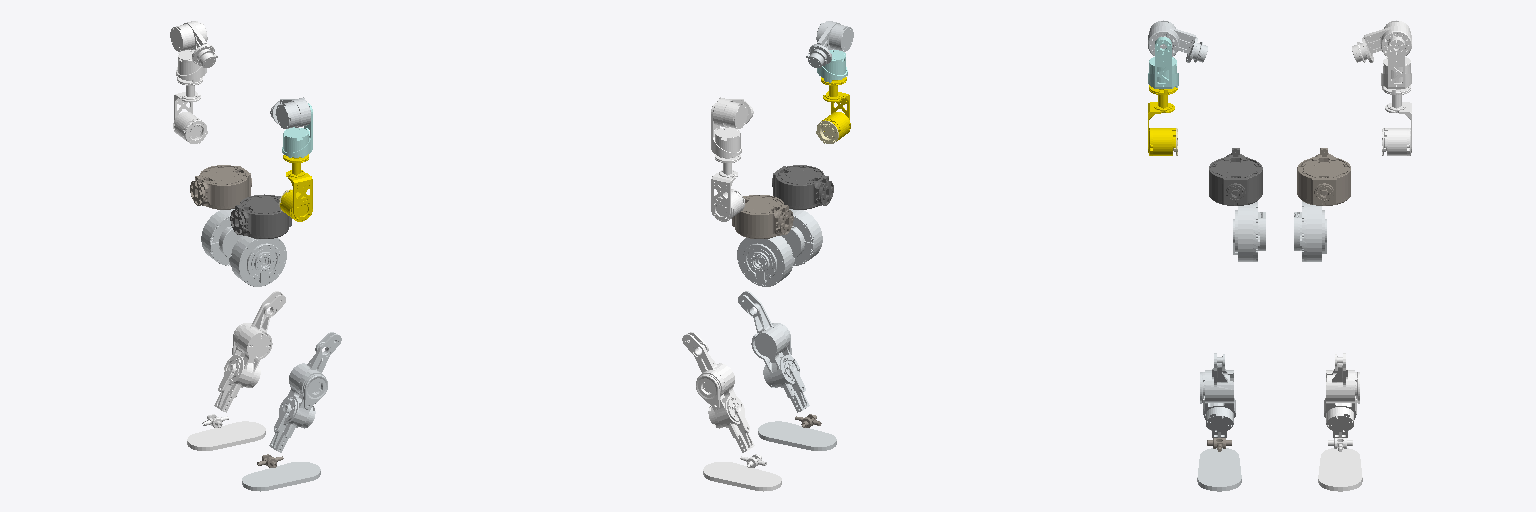
The robot description file, URDF, robot "Dora2":
<?xml version='1.0' encoding='utf-8'?>
<robot name="Dora2">
  <link name="base_link">
    <inertial>
      <origin xyz="-0.026899 -1.898E-06 0.035918" rpy="0 0 0" />
      <mass value="5.7651" />
      <inertia ixx="0.020053" ixy="-8.8171E-07" ixz="-3.1053E-05" iyy="0.014582" iyz="1.1072E-05" izz="0.013124" />
      </inertial>
    <visual>
      <origin xyz="0 0 0" rpy="0 0 0" />
      <geometry>
        <mesh filename="../meshes/base_link.STL" />
        </geometry>
      <material name="">
        <color rgba="0.89804 0.91765 0.92941 1" />
        </material>
      </visual>
    <collision>
      <origin xyz="0 0 0" rpy="0 0 0" />
      <geometry>
        <mesh filename="../meshes/base_link.STL" />
        </geometry>
      </collision>
    </link>
  <link name="l_arm_shoulder_pitch_Link">
    <inertial>
      <origin xyz="-0.0032277 -0.00090287 0.064029" rpy="0 0 0" />
      <mass value="0.47485" />
      <inertia ixx="0.00026491" ixy="-1.493E-06" ixz="-1.3787E-05" iyy="0.00023165" iyz="-4.313E-06" izz="0.00018067" />
      </inertial>
    <visual>
      <origin xyz="0 0 0" rpy="0 0 0" />
      <geometry>
        <mesh filename="../meshes/l_arm_shoulder_pitch_Link.STL" />
        </geometry>
      <material name="">
        <color rgba="1 1 1 1" />
        </material>
      </visual>
    <collision>
      <origin xyz="0 0 0" rpy="0 0 0" />
      <geometry>
        <mesh filename="../meshes/l_arm_shoulder_pitch_Link.STL" />
        </geometry>
      </collision>
    </link>
  <joint name="l_arm_shoulder_pitch_joint" type="fixed">
    <origin xyz="0 0.16535 0.20168" rpy="-1.2217 0 0" />
    <parent link="base_link" />
    <child link="l_arm_shoulder_pitch_Link" />
    <axis xyz="0 0 1" />
    <limit lower="-2" upper="2" effort="100" velocity="12" />
    </joint>
  <link name="l_arm_shoulder_roll_Link">
    <inertial>
      <origin xyz="0.00482434461878539 -0.000218754304780355 -0.066684892346818" rpy="0 0 0" />
      <mass value="0.369997353872883" />
      <inertia ixx="0.000197558683212289" ixy="-1.5602634042867E-06" ixz="-2.63403084055417E-05" iyy="0.00020014685176238" iyz="-3.03976144077389E-06" izz="0.000160207650697516" />
      </inertial>
    <visual>
      <origin xyz="0 0 0" rpy="0 0 0" />
      <geometry>
        <mesh filename="../meshes/l_arm_shoulder_roll_Link.STL" />
        </geometry>
      <material name="">
        <color rgba="1 1 1 1" />
        </material>
      </visual>
    <collision>
      <origin xyz="0 0 0" rpy="0 0 0" />
      <geometry>
        <mesh filename="../meshes/l_arm_shoulder_roll_Link.STL" />
        </geometry>
      </collision>
    </link>
  <joint name="l_arm_shoulder_roll_joint" type="fixed">
    <origin xyz="0 0 0.07625" rpy="1.2217 0 0" />
    <parent link="l_arm_shoulder_pitch_Link" />
    <child link="l_arm_shoulder_roll_Link" />
    <axis xyz="1 0 0" />
    <limit lower="0" upper="3" effort="100" velocity="12" />
    </joint>
  <link name="l_arm_shoulder_yaw_Link">
    <inertial>
      <origin xyz="-4.03282683863471E-05 0.00245809993860069 -0.0964013469128064" rpy="0 0 0" />
      <mass value="0.385684351005629" />
      <inertia ixx="0.000140770233725746" ixy="4.77061098456113E-08" ixz="-6.57625183657226E-07" iyy="0.000170456017896524" iyz="4.83143500058617E-06" izz="0.000126959258320037" />
      </inertial>
    <visual>
      <origin xyz="0 0 0" rpy="0 0 0" />
      <geometry>
        <mesh filename="../meshes/l_arm_shoulder_yaw_Link.STL" />
        </geometry>
      <material name="">
        <color rgba="1 1 1 1" />
        </material>
      </visual>
    <collision>
      <origin xyz="0 0 0" rpy="0 0 0" />
      <geometry>
        <mesh filename="../meshes/l_arm_shoulder_yaw_Link.STL" />
        </geometry>
      </collision>
    </link>
  <joint name="l_arm_shoulder_yaw_joint" type="fixed">
    <origin xyz="0 0 -0.108" rpy="0 0 0" />
    <parent link="l_arm_shoulder_roll_Link" />
    <child link="l_arm_shoulder_yaw_Link" />
    <axis xyz="0 0 1" />
    <limit lower="-2" upper="2" effort="100" velocity="12" />
    </joint>
  <link name="l_arm_elbow_Link">
    <inertial>
      <origin xyz="0.000783882641962441 -0.0071164610235743 -0.000187670615894142" rpy="0 0 0" />
      <mass value="0.0234686345431745" />
      <inertia ixx="4.69343397566853E-06" ixy="-1.99964708764804E-09" ixz="9.87920406079632E-08" iyy="9.07836938758881E-06" iyz="4.78743667979099E-10" izz="5.08242714541202E-06" />
      </inertial>
    <visual>
      <origin xyz="0 0 0" rpy="0 0 0" />
      <geometry>
        <mesh filename="../meshes/l_arm_elbow_Link.STL" />
        </geometry>
      <material name="">
        <color rgba="1 1 1 1" />
        </material>
      </visual>
    <collision>
      <origin xyz="0 0 0" rpy="0 0 0" />
      <geometry>
        <mesh filename="../meshes/l_arm_elbow_Link.STL" />
        </geometry>
      </collision>
    </link>
  <joint name="l_arm_elbow_joint" type="fixed">
    <origin xyz="0 -0.017 -0.11875" rpy="0 0 0" />
    <parent link="l_arm_shoulder_yaw_Link" />
    <child link="l_arm_elbow_Link" />
    <axis xyz="0 1 0" />
    <limit lower="-1.5" upper="1.5" effort="100" velocity="12" />
    </joint>
  <link name="r_arm_shoulder_pitch_Link">
    <inertial>
      <origin xyz="-0.00322766219363702 0.000902867126619522 0.0640292363653914" rpy="0 0 0" />
      <mass value="0.474849451126101" />
      <inertia ixx="0.000264909282657534" ixy="1.49302417243388E-06" ixz="-1.37867353578637E-05" iyy="0.000231649340648057" iyz="4.31300719077689E-06" izz="0.000180674893290091" />
      </inertial>
    <visual>
      <origin xyz="0 0 0" rpy="0 0 0" />
      <geometry>
        <mesh filename="../meshes/r_arm_shoulder_pitch_Link.STL" />
        </geometry>
      <material name="">
        <color rgba="0.898039215686275 0.917647058823529 0.929411764705882 1" />
        </material>
      </visual>
    <collision>
      <origin xyz="0 0 0" rpy="0 0 0" />
      <geometry>
        <mesh filename="../meshes/r_arm_shoulder_pitch_Link.STL" />
        </geometry>
      </collision>
    </link>
  <joint name="r_arm_shoulder_pitch_joint" type="fixed">
    <origin xyz="0 -0.16535 0.20168" rpy="1.2217 0 0" />
    <parent link="base_link" />
    <child link="r_arm_shoulder_pitch_Link" />
    <axis xyz="0 0 1" />
    <limit lower="-2" upper="2" effort="100" velocity="12" />
    </joint>
  <link name="r_arm_shoulder_roll_Link">
    <inertial>
      <origin xyz="0.00482435004857312 0.000218646457870841 -0.0666848884784403" rpy="0 0 0" />
      <mass value="0.369997409547943" />
      <inertia ixx="0.000197558689735899" ixy="1.55936436335277E-06" ixz="-2.63403151880769E-05" iyy="0.000200146864120328" iyz="3.03941874056831E-06" izz="0.000160207663265554" />
      </inertial>
    <visual>
      <origin xyz="0 0 0" rpy="0 0 0" />
      <geometry>
        <mesh filename="../meshes/r_arm_shoulder_roll_Link.STL" />
        </geometry>
      <material name="">
        <color rgba="0.780392156862745 0.972549019607843 0.956862745098039 1" />
        </material>
      </visual>
    <collision>
      <origin xyz="0 0 0" rpy="0 0 0" />
      <geometry>
        <mesh filename="../meshes/r_arm_shoulder_roll_Link.STL" />
        </geometry>
      </collision>
    </link>
  <joint name="r_arm_shoulder_roll_joint" type="fixed">
    <origin xyz="0 0 0.07625" rpy="-1.2217 0 0" />
    <parent link="r_arm_shoulder_pitch_Link" />
    <child link="r_arm_shoulder_roll_Link" />
    <axis xyz="1 0 0" />
    <limit lower="-3" upper="0" effort="100" velocity="12" />
    </joint>
  <link name="r_arm_shoulder_yaw_Link">
    <inertial>
      <origin xyz="-4.033E-05 -0.0024581 -0.096401" rpy="0 0 0" />
      <mass value="0.38568" />
      <inertia ixx="0.00014077" ixy="-4.771E-08" ixz="-6.5762E-07" iyy="0.00017046" iyz="-4.8314E-06" izz="0.00012696" />
      </inertial>
    <visual>
      <origin xyz="0 0 0" rpy="0 0 0" />
      <geometry>
        <mesh filename="../meshes/r_arm_shoulder_yaw_Link.STL" />
        </geometry>
      <material name="">
        <color rgba="1 0.90588 0 1" />
        </material>
      </visual>
    <collision>
      <origin xyz="0 0 0" rpy="0 0 0" />
      <geometry>
        <mesh filename="../meshes/r_arm_shoulder_yaw_Link.STL" />
        </geometry>
      </collision>
    </link>
  <joint name="r_arm_shoulder_yaw_joint" type="fixed">
    <origin xyz="0 0 -0.108" rpy="0 0 0" />
    <parent link="r_arm_shoulder_roll_Link" />
    <child link="r_arm_shoulder_yaw_Link" />
    <axis xyz="0 0 1" />
    <limit lower="-2" upper="2" effort="100" velocity="12" />
    </joint>
  <link name="r_arm_elbow_Link">
    <inertial>
      <origin xyz="0.000783882643357436 0.00711646102274963 -0.000187670617232349" rpy="0 0 0" />
      <mass value="0.0234686345431746" />
      <inertia ixx="4.69343397566855E-06" ixy="1.99964708702846E-09" ixz="9.87920406079816E-08" iyy="9.07836938758883E-06" iyz="-4.78743642735379E-10" izz="5.08242714541201E-06" />
      </inertial>
    <visual>
      <origin xyz="0 0 0" rpy="0 0 0" />
      <geometry>
        <mesh filename="../meshes/r_arm_elbow_Link.STL" />
        </geometry>
      <material name="">
        <color rgba="0.972549019607843 0.945098039215686 0.780392156862745 1" />
        </material>
      </visual>
    <collision>
      <origin xyz="0 0 0" rpy="0 0 0" />
      <geometry>
        <mesh filename="../meshes/r_arm_elbow_Link.STL" />
        </geometry>
      </collision>
    </link>
  <joint name="r_arm_elbow_joint" type="fixed">
    <origin xyz="0 0.017 -0.11875" rpy="0 0 0" />
    <parent link="r_arm_shoulder_yaw_Link" />
    <child link="r_arm_elbow_Link" />
    <axis xyz="0 1 0" />
    <limit lower="-1.5" upper="1.5" effort="100" velocity="12" />
    </joint>
  <link name="l_leg_hip_roll_Link">
    <inertial>
      <origin xyz="0.073997 -2.6118E-05 -0.0038831" rpy="0 0 0" />
      <mass value="1.2237" />
      <inertia ixx="0.0010875" ixy="2.5346E-06" ixz="4.9227E-06" iyy="0.0012014" iyz="-2.996E-07" izz="0.0021103" />
      </inertial>
    <visual>
      <origin xyz="0 0 0" rpy="0 0 0" />
      <geometry>
        <mesh filename="../meshes/l_leg_hip_roll_Link.STL" />
        </geometry>
      <material name="">
        <color rgba="0.64706 0.61961 0.58824 1" />
        </material>
      </visual>
    <collision>
      <origin xyz="0 0 0" rpy="0 0 0" />
      <geometry>
        <mesh filename="../meshes/l_leg_hip_roll_Link.STL" />
        </geometry>
      </collision>
    </link>
  <joint name="l_leg_hip_roll_joint" type="revolute">
    <origin xyz="-0.0792 0.09002 -0.085" rpy="0 0 0" />
    <parent link="base_link" />
    <child link="l_leg_hip_roll_Link" />
    <axis xyz="1 0 0" />
    <limit lower="-0.3" upper="1" effort="40" velocity="12" />
    </joint>
  <link name="l_leg_hip_yaw_Link">
    <inertial>
      <origin xyz="0.00018298 -0.018275 -0.069994" rpy="0 0 0" />
      <mass value="1.5439" />
      <inertia ixx="0.0016181" ixy="1.229E-06" ixz="-2.3738E-06" iyy="0.0028764" iyz="2.6967E-06" izz="0.0014519" />
      </inertial>
    <visual>
      <origin xyz="0 0 0" rpy="0 0 0" />
      <geometry>
        <mesh filename="../meshes/l_leg_hip_yaw_Link.STL" />
        </geometry>
      <material name="">
        <color rgba="0.89804 0.91765 0.92941 1" />
        </material>
      </visual>
    <collision>
      <origin xyz="0 0 0" rpy="0 0 0" />
      <geometry>
        <mesh filename="../meshes/l_leg_hip_yaw_Link.STL" />
        </geometry>
      </collision>
    </link>
  <joint name="l_leg_hip_yaw_joint" type="revolute">
    <origin xyz="0.0815 0 -0.0375" rpy="0 0 0" />
    <parent link="l_leg_hip_roll_Link" />
    <child link="l_leg_hip_yaw_Link" />
    <axis xyz="0 0 1" />
    <limit lower="-0.75" upper="1.5" effort="40" velocity="12" />
    </joint>
  <link name="l_leg_hip_pitch_Link">
    <inertial>
      <origin xyz="0.00263050346808996 0.0505924691116392 -0.0509281264870309" rpy="0 0 0" />
      <mass value="2.63780166885626" />
      <inertia ixx="0.0128050639410327" ixy="-7.30670824907572E-06" ixz="0.00012322434413997" iyy="0.0146659167630542" iyz="0.000182392843008207" izz="0.00218142025359868" />
      </inertial>
    <visual>
      <origin xyz="0 0 0" rpy="0 0 0" />
      <geometry>
        <mesh filename="../meshes/l_leg_hip_pitch_Link.STL" />
        </geometry>
      <material name="">
        <color rgba="1 1 1 1" />
        </material>
      </visual>
    <collision>
      <origin xyz="0 0 0" rpy="0 0 0" />
      <geometry>
        <mesh filename="../meshes/l_leg_hip_pitch_Link.STL" />
        </geometry>
      </collision>
    </link>
  <joint name="l_leg_hip_pitch_joint" type="revolute">
    <origin xyz="0 0 -0.076" rpy="0 -0.52 0" />
    <parent link="l_leg_hip_yaw_Link" />
    <child link="l_leg_hip_pitch_Link" />
    <axis xyz="0 1 0" />
    <limit lower="-0.98" upper="2.02" effort="120" velocity="12" />
    </joint>
  <link name="l_leg_knee_Link">
    <inertial>
      <origin xyz="0.00266770031269203 0.00221957096227114 -0.128036168256414" rpy="0 0 0" />
      <mass value="1.34567623230749" />
      <inertia ixx="0.00225057945909996" ixy="-2.36738551821806E-06" ixz="-2.21475954062562E-05" iyy="0.0022436430421998" iyz="-4.54794163165065E-05" izz="0.000463767068680579" />
      </inertial>
    <visual>
      <origin xyz="0 0 0" rpy="0 0 0" />
      <geometry>
        <mesh filename="../meshes/l_leg_knee_Link.STL" />
        </geometry>
      <material name="">
        <color rgba="1 1 1 1" />
        </material>
      </visual>
    <collision>
      <origin xyz="0 0 0" rpy="0 0 0" />
      <geometry>
        <mesh filename="../meshes/l_leg_knee_Link.STL" />
        </geometry>
      </collision>
    </link>
  <joint name="l_leg_knee_joint" type="revolute">
    <origin xyz="0 0.032659 -0.27" rpy="0 1.04 0" />
    <parent link="l_leg_hip_pitch_Link" />
    <child link="l_leg_knee_Link" />
    <axis xyz="0 1 0" />
    <limit lower="-0.96" upper="0.96" effort="120" velocity="12" />
    </joint>
  <link name="l_leg_ankle_pitch_Link">
    <inertial>
      <origin xyz="0.0010416057050221 3.86596726853483E-09 -9.72771641016834E-10" rpy="0 0 0" />
      <mass value="0.0899541151447192" />
      <inertia ixx="1.16237302815817E-05" ixy="6.8818627585469E-12" ixz="-6.20500503887009E-13" iyy="1.42974136786799E-05" iyz="7.1490905437311E-13" izz="2.19294687658168E-05" />
      </inertial>
    <visual>
      <origin xyz="0 0 0" rpy="0 0 0" />
      <geometry>
        <mesh filename="../meshes/l_leg_ankle_pitch_Link.STL" />
        </geometry>
      <material name="">
        <color rgba="1 1 1 1" />
        </material>
      </visual>
    </link>
  <joint name="l_leg_ankle_pitch_joint" type="revolute">
    <origin xyz="0 0 -0.28" rpy="0 -0.52 0" />
    <parent link="l_leg_knee_Link" />
    <child link="l_leg_ankle_pitch_Link" />
    <axis xyz="0 1 0" />
    <limit lower="-0.28" upper="1.08" effort="27" velocity="12" />
    </joint>
  <link name="l_leg_ankle_roll_Link">
    <inertial>
      <origin xyz="0.00956351706341918 2.52051269337139E-05 -0.0277821418441356" rpy="0 0 0" />
      <mass value="0.442108383473458" />
      <inertia ixx="0.000179440452962887" ixy="-9.81668136691162E-08" ixz="2.01427592817129E-05" iyy="0.000724129860482909" iyz="4.76805498508633E-08" izz="0.000870339094674059" />
      </inertial>
    <visual>
      <origin xyz="0 0 0" rpy="0 0 0" />
      <geometry>
        <mesh filename="../meshes/l_leg_ankle_roll_Link.STL" />
        </geometry>
      <material name="">
        <color rgba="1 1 1 1" />
        </material>
      </visual>
    <collision>
      <origin xyz="0 0 0" rpy="0 0 0" />
      <geometry>
        <mesh filename="../meshes/l_leg_ankle_roll_Link.STL" />
        </geometry>
      </collision>
    </link>
  <joint name="l_leg_ankle_roll_joint" type="revolute">
    <origin xyz="0 0 0" rpy="0 0 0" />
    <parent link="l_leg_ankle_pitch_Link" />
    <child link="l_leg_ankle_roll_Link" />
    <axis xyz="1 0 0" />
    <limit lower="-0.5" upper="0.5" effort="27" velocity="12" />
    </joint>
  <link name="r_leg_hip_roll_Link">
    <inertial>
      <origin xyz="0.073997 -2.6118E-05 -0.00038831" rpy="0 0 0" />
      <mass value="1.2237" />
      <inertia ixx="0.0010875" ixy="2.5346E-06" ixz="4.9227E-06" iyy="0.0012014" iyz="-2.996E-07" izz="0.0021103" />
      </inertial>
    <visual>
      <origin xyz="0 0 0" rpy="0 0 0" />
      <geometry>
        <mesh filename="../meshes/r_leg_hip_roll_Link.STL" />
        </geometry>
      <material name="">
        <color rgba="0.49804 0.49804 0.49804 1" />
        </material>
      </visual>
    <collision>
      <origin xyz="0 0 0" rpy="0 0 0" />
      <geometry>
        <mesh filename="../meshes/r_leg_hip_roll_Link.STL" />
        </geometry>
      </collision>
    </link>
  <joint name="r_leg_hip_roll_joint" type="revolute">
    <origin xyz="-0.0792 -0.08998 -0.085" rpy="0 0 0" />
    <parent link="base_link" />
    <child link="r_leg_hip_roll_Link" />
    <axis xyz="1 0 0" />
    <limit lower="-1" upper="0.3" effort="40" velocity="12" />
    </joint>
  <link name="r_leg_hip_yaw_Link">
    <inertial>
      <origin xyz="0.00023924 0.018241 -0.069997" rpy="0 0 0" />
      <mass value="1.5439" />
      <inertia ixx="0.0016183" ixy="1.3779E-08" ixz="-4.3002E-07" iyy="0.0028766" iyz="-2.7088E-06" izz="0.0014515" />
      </inertial>
    <visual>
      <origin xyz="0 0 0" rpy="0 0 0" />
      <geometry>
        <mesh filename="../meshes/r_leg_hip_yaw_Link.STL" />
        </geometry>
      <material name="">
        <color rgba="0.89804 0.91765 0.92941 1" />
        </material>
      </visual>
    <collision>
      <origin xyz="0 0 0" rpy="0 0 0" />
      <geometry>
        <mesh filename="../meshes/r_leg_hip_yaw_Link.STL" />
        </geometry>
      </collision>
    </link>
  <joint name="r_leg_hip_yaw_joint" type="revolute">
    <origin xyz="0.0815 0 -0.0375" rpy="0 0 0" />
    <parent link="r_leg_hip_roll_Link" />
    <child link="r_leg_hip_yaw_Link" />
    <axis xyz="0 0 1" />
    <limit lower="0" upper="0" effort="40" velocity="12" />
    </joint>
  <link name="r_leg_hip_pitch_Link">
    <inertial>
      <origin xyz="0.00263050346808996 -0.0505924691116392 -0.0509281264870309" rpy="0 0 0" />
      <mass value="2.63780166885626" />
      <inertia ixx="0.0128050639410327" ixy="-7.30670824907572E-06" ixz="0.00012322434413997" iyy="0.0146659167630542" iyz="0.000182392843008207" izz="0.00218142025359868" />
      </inertial>
    <visual>
      <origin xyz="0 0 0" rpy="0 0 0" />
      <geometry>
        <mesh filename="../meshes/r_leg_hip_pitch_Link.STL" />
        </geometry>
      <material name="">
        <color rgba="0.89804 0.91765 0.92941 1" />
        </material>
      </visual>
    <collision>
      <origin xyz="0 0 0" rpy="0 0 0" />
      <geometry>
        <mesh filename="../meshes/r_leg_hip_pitch_Link.STL" />
        </geometry>
      </collision>
    </link>
  <joint name="r_leg_hip_pitch_joint" type="revolute">
    <origin xyz="0 0 -0.076" rpy="0 -0.52 0" />
    <parent link="r_leg_hip_yaw_Link" />
    <child link="r_leg_hip_pitch_Link" />
    <axis xyz="0 1 0" />
    <limit lower="-0.98" upper="2.02" effort="120" velocity="12" />
    </joint>
  <link name="r_leg_knee_Link">
    <inertial>
      <origin xyz="0.0026677 -0.0022197 -0.12804" rpy="0 0 0" />
      <mass value="1.3457" />
      <inertia ixx="0.0022506" ixy="2.3667E-06" ixz="-2.2148E-05" iyy="0.0022436" iyz="4.5481E-05" izz="0.00046377" />
      </inertial>
    <visual>
      <origin xyz="0 0 0" rpy="0 0 0" />
      <geometry>
        <mesh filename="../meshes/r_leg_knee_Link.STL" />
        </geometry>
      <material name="">
        <color rgba="0.89804 0.91765 0.92941 1" />
        </material>
      </visual>
    <collision>
      <origin xyz="0 0 0" rpy="0 0 0" />
      <geometry>
        <mesh filename="../meshes/r_leg_knee_Link.STL" />
        </geometry>
      </collision>
    </link>
  <joint name="r_leg_knee_joint" type="revolute">
    <origin xyz="0 -0.0327 -0.27" rpy="0 1.04 0" />
    <parent link="r_leg_hip_pitch_Link" />
    <child link="r_leg_knee_Link" />
    <axis xyz="0 1 0" />
    <limit lower="-0.96" upper="0.96" effort="120" velocity="12" />
    </joint>
  <link name="r_leg_ankle_pitch_Link">
    <inertial>
      <origin xyz="0.0010416 -3.8669E-09 -9.735E-10" rpy="0 0 0" />
      <mass value="0.089954" />
      <inertia ixx="1.1624E-05" ixy="-6.8819E-12" ixz="-6.205E-13" iyy="1.4297E-05" iyz="-7.1496E-13" izz="2.1929E-05" />
      </inertial>
    <visual>
      <origin xyz="0 0 0" rpy="0 0 0" />
      <geometry>
        <mesh filename="../meshes/r_leg_ankle_pitch_Link.STL" />
        </geometry>
      <material name="">
        <color rgba="0.64706 0.61961 0.58824 1" />
        </material>
      </visual>
    </link>
  <joint name="r_leg_ankle_pitch_joint" type="revolute">
    <origin xyz="0 0 -0.28" rpy="0 -0.52 0" />
    <parent link="r_leg_knee_Link" />
    <child link="r_leg_ankle_pitch_Link" />
    <axis xyz="0 1 0" />
    <limit lower="-0.28" upper="1.08" effort="27" velocity="12" />
    </joint>
  <link name="r_leg_ankle_roll_Link">
    <inertial>
      <origin xyz="0.0095635 -2.5209E-05 -0.027782" rpy="0 0 0" />
      <mass value="0.44211" />
      <inertia ixx="0.00017944" ixy="9.8037E-08" ixz="2.0143E-05" iyy="0.00072413" iyz="-4.7705E-08" izz="0.00087034" />
      </inertial>
    <visual>
      <origin xyz="0 0 0" rpy="0 0 0" />
      <geometry>
        <mesh filename="../meshes/r_leg_ankle_roll_Link.STL" />
        </geometry>
      <material name="">
        <color rgba="0.89804 0.91765 0.92941 1" />
        </material>
      </visual>
    <collision>
      <origin xyz="0 0 0" rpy="0 0 0" />
      <geometry>
        <mesh filename="../meshes/r_leg_ankle_roll_Link.STL" />
        </geometry>
      </collision>
    </link>
  <joint name="r_leg_ankle_roll_joint" type="revolute">
    <origin xyz="0 0 0" rpy="0 0 0" />
    <parent link="r_leg_ankle_pitch_Link" />
    <child link="r_leg_ankle_roll_Link" />
    <axis xyz="1 0 0" />
    <limit lower="-0.5" upper="0.5" effort="27" velocity="12" />
    </joint>
  </robot>

--- What the picture shows (computed from the rendered views, not written in the file) ---
3 views of the same robot in one strip: view 1: azimuth 30°, elevation 25°; view 2: azimuth 150°, elevation 25°; view 3: azimuth 270°, elevation 25° (orthographic).
Robot: Dora2 — 21 links, 20 joints (12 revolute, 8 fixed); root link base_link; default pose: all joints at 0.
Visible links, largest first — view 1: l_leg_knee_Link, r_leg_knee_Link, r_leg_hip_yaw_Link, l_leg_hip_roll_Link, r_leg_hip_roll_Link, l_leg_ankle_roll_Link, r_leg_ankle_roll_Link, r_arm_shoulder_yaw_Link, l_leg_hip_yaw_Link, l_arm_shoulder_pitch_Link, r_arm_shoulder_pitch_Link, l_arm_shoulder_yaw_Link (+2 smaller); view 2: r_leg_knee_Link, l_leg_knee_Link, l_leg_hip_yaw_Link, r_leg_hip_roll_Link, l_leg_hip_roll_Link, r_leg_ankle_roll_Link, l_leg_ankle_roll_Link, l_arm_shoulder_yaw_Link, r_leg_hip_yaw_Link, r_arm_shoulder_pitch_Link, l_arm_shoulder_pitch_Link, r_arm_shoulder_yaw_Link (+2 smaller); view 3: l_leg_hip_roll_Link, r_leg_hip_roll_Link, l_leg_knee_Link, r_leg_knee_Link, r_leg_hip_yaw_Link, l_leg_ankle_roll_Link, r_leg_ankle_roll_Link, l_leg_hip_yaw_Link, l_arm_shoulder_pitch_Link, r_arm_shoulder_pitch_Link, l_arm_shoulder_yaw_Link, r_arm_shoulder_yaw_Link (+2 smaller).
Link boxes in pixels (x1=…): l_leg_knee_Link: x1=214, y1=291, x2=285, y2=412; r_leg_knee_Link: x1=269, y1=332, x2=341, y2=452; r_leg_hip_yaw_Link: x1=229, y1=236, x2=286, y2=286; l_leg_hip_roll_Link: x1=190, y1=165, x2=251, y2=209; r_leg_hip_roll_Link: x1=230, y1=194, x2=291, y2=238; l_leg_ankle_roll_Link: x1=187, y1=421, x2=265, y2=450; r_leg_ankle_roll_Link: x1=242, y1=462, x2=320, y2=491; r_arm_shoulder_yaw_Link: x1=280, y1=154, x2=312, y2=221; l_leg_hip_yaw_Link: x1=201, y1=209, x2=242, y2=265; l_arm_shoulder_pitch_Link: x1=170, y1=21, x2=217, y2=67; r_arm_shoulder_pitch_Link: x1=270, y1=97, x2=310, y2=128; l_arm_shoulder_yaw_Link: x1=173, y1=77, x2=202, y2=140; r_leg_knee_Link: x1=738, y1=291, x2=809, y2=412; l_leg_knee_Link: x1=682, y1=332, x2=754, y2=452; l_leg_hip_yaw_Link: x1=737, y1=236, x2=794, y2=286; r_leg_hip_roll_Link: x1=772, y1=165, x2=833, y2=209; l_leg_hip_roll_Link: x1=732, y1=195, x2=793, y2=238; r_leg_ankle_roll_Link: x1=758, y1=421, x2=836, y2=450; l_leg_ankle_roll_Link: x1=703, y1=462, x2=781, y2=491; l_arm_shoulder_yaw_Link: x1=711, y1=154, x2=743, y2=221; r_leg_hip_yaw_Link: x1=781, y1=209, x2=822, y2=265; r_arm_shoulder_pitch_Link: x1=806, y1=21, x2=853, y2=67; l_arm_shoulder_pitch_Link: x1=713, y1=97, x2=753, y2=128; r_arm_shoulder_yaw_Link: x1=821, y1=77, x2=850, y2=140; l_leg_hip_roll_Link: x1=1297, y1=148, x2=1350, y2=205; r_leg_hip_roll_Link: x1=1209, y1=148, x2=1262, y2=205; l_leg_knee_Link: x1=1324, y1=353, x2=1359, y2=437; r_leg_knee_Link: x1=1200, y1=353, x2=1235, y2=437; r_leg_hip_yaw_Link: x1=1233, y1=201, x2=1265, y2=261; l_leg_ankle_roll_Link: x1=1318, y1=448, x2=1362, y2=491; r_leg_ankle_roll_Link: x1=1197, y1=448, x2=1241, y2=491; l_leg_hip_yaw_Link: x1=1294, y1=201, x2=1326, y2=261; l_arm_shoulder_pitch_Link: x1=1352, y1=20, x2=1411, y2=62; r_arm_shoulder_pitch_Link: x1=1148, y1=20, x2=1207, y2=62; l_arm_shoulder_yaw_Link: x1=1382, y1=85, x2=1411, y2=155; r_arm_shoulder_yaw_Link: x1=1148, y1=85, x2=1177, y2=155.
Size in the robot's own frame: 0.2459 by 0.538 by 0.985 metres.
18 mesh visuals loaded from 21 distinct referenced files (18 binary STL); not drawn: 3 (reference not matched to a file when rendering).